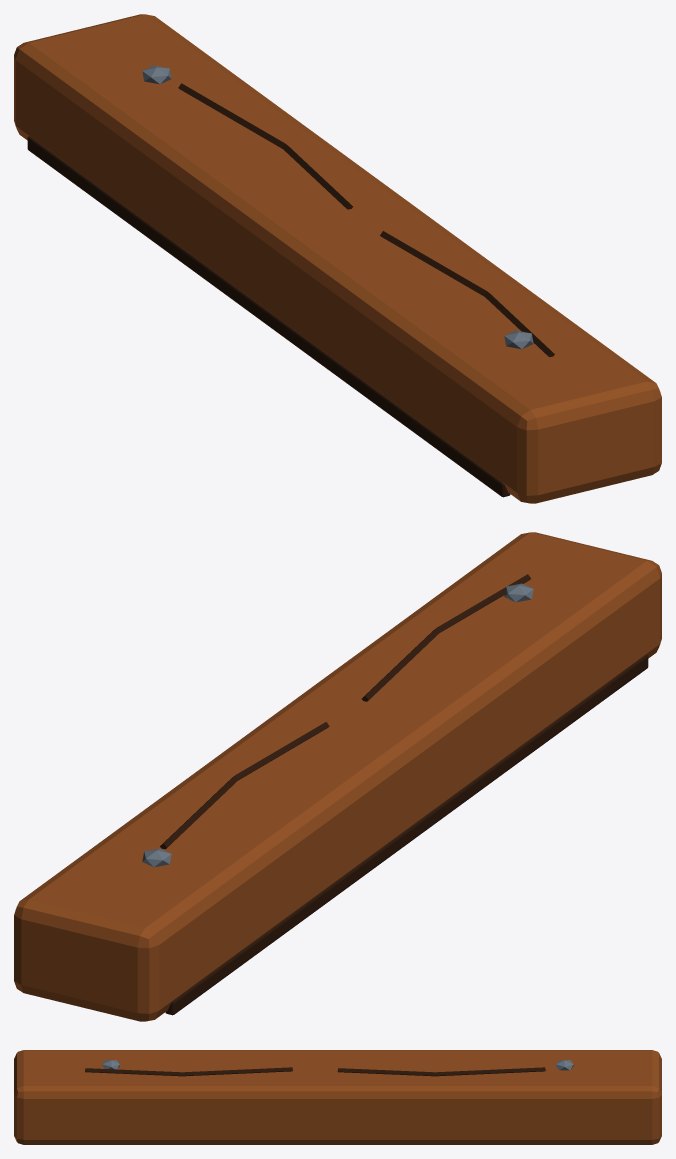
The model's file is forest_bridge_plank.glb.
3 views of the same model, one above another, from view 1: azimuth 30°, elevation 25°; view 2: azimuth 150°, elevation 25°; view 3: azimuth 270°, elevation 25° (orthographic). The views are drawn at different scales.
Visible parts, largest first — view 1: Bridge deck plank, Plank edge shadow, Deck plank grain.001, Deck plank grain; view 2: Bridge deck plank, Plank edge shadow, Deck plank grain.001, Deck plank grain; view 3: Bridge deck plank, Deck plank grain.001, Deck plank grain, Deck iron nail.001.
Part boxes in pixels (left/top/right/bottom): Bridge deck plank: left=14, top=14, right=661, bottom=503; Plank edge shadow: left=27, top=136, right=510, bottom=497; Deck plank grain.001: left=178, top=83, right=353, bottom=209; Deck plank grain: left=380, top=231, right=554, bottom=357; Bridge deck plank: left=14, top=532, right=661, bottom=1021; Plank edge shadow: left=165, top=654, right=648, bottom=1015; Deck plank grain.001: left=160, top=722, right=329, bottom=849; Deck plank grain: left=361, top=574, right=530, bottom=701; Bridge deck plank: left=14, top=1050, right=661, bottom=1144; Deck plank grain.001: left=337, top=1067, right=545, bottom=1076; Deck plank grain: left=85, top=1067, right=292, bottom=1076; Deck iron nail.001: left=556, top=1060, right=573, bottom=1070.
Bounding box in the file's own units: 0.162 × 0.1135 × 1.
